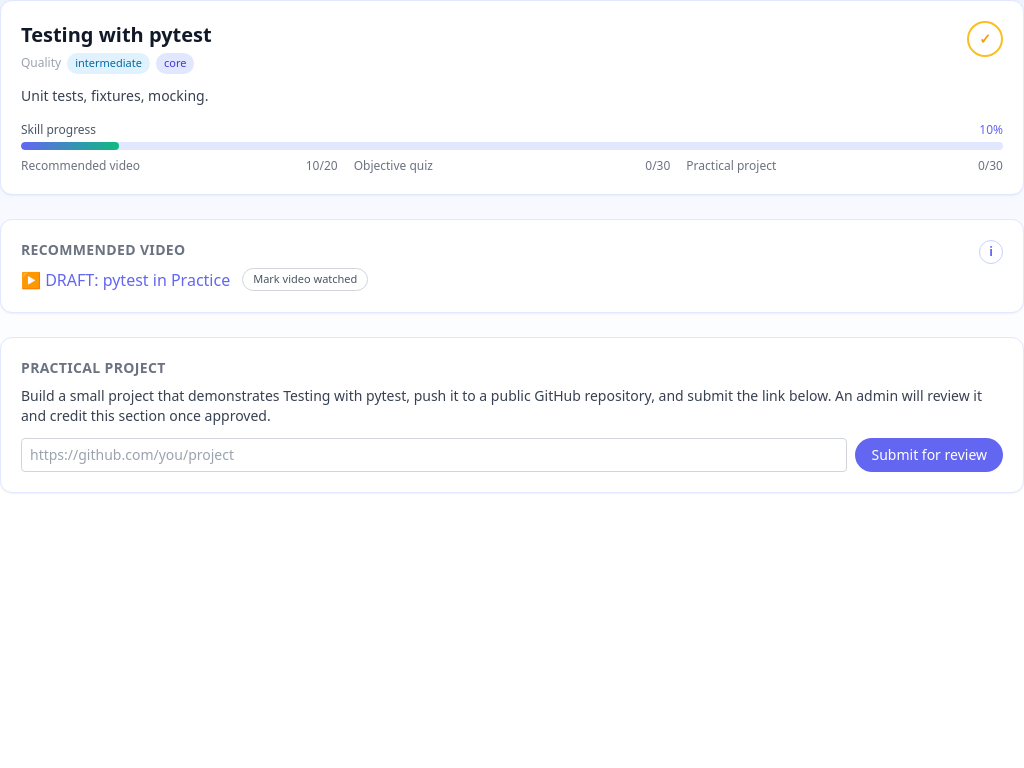
Test case: SkillDetailBoard › credits the practical project after a GitHub link is submitted, and never shows an evidence section
In the field named "GitHub repository URL": (434, 454) [21,438,848,472], type "https://github.com/me/project"
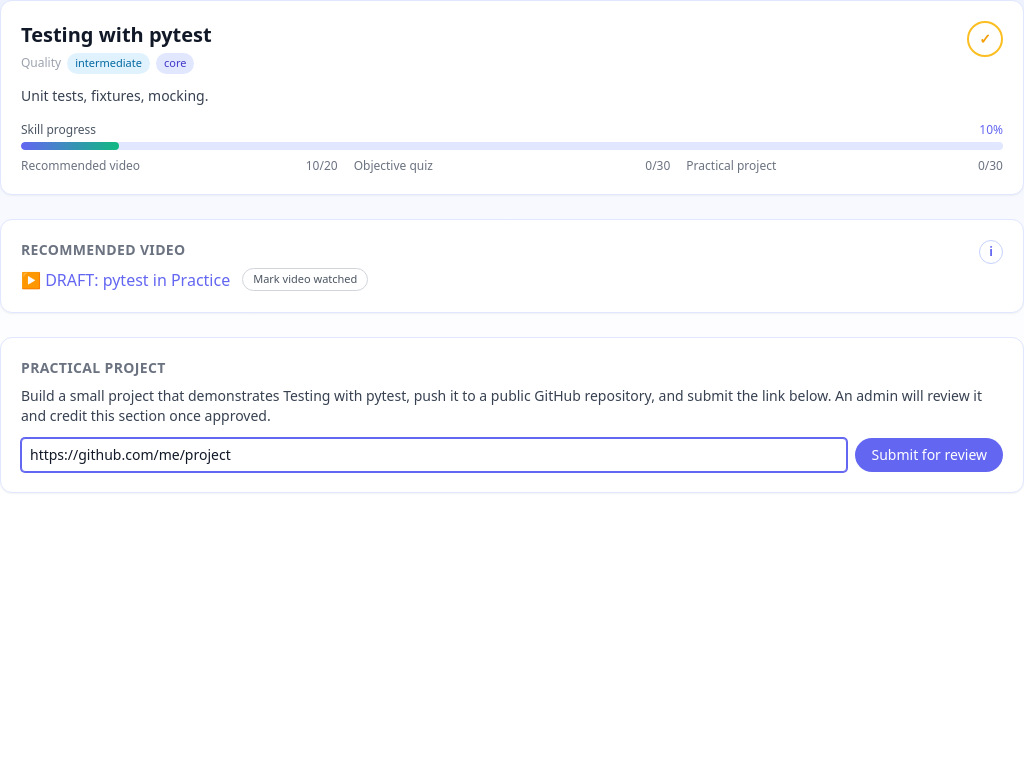
Click the button "Submit for review": (929, 454) [856,438,1003,472]
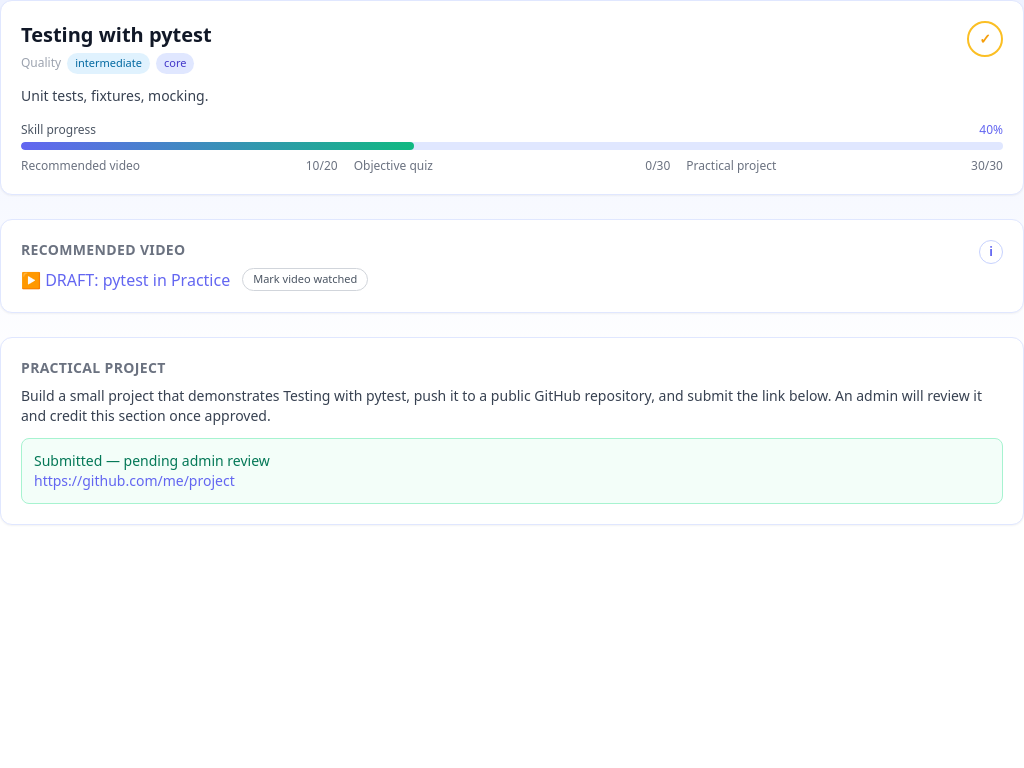
Expected: the text "Submitted — pending admin review" is shown, [34,450,270,470]
